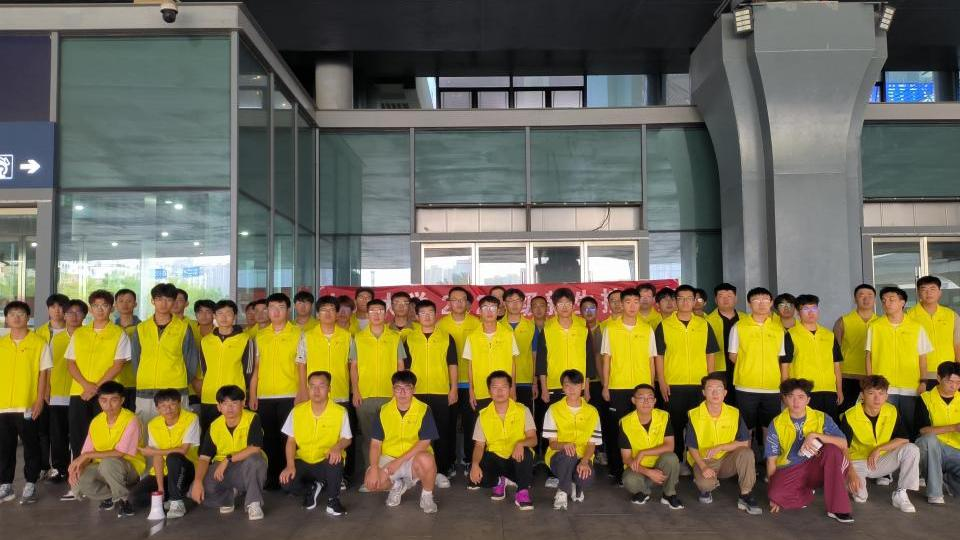persion: (700, 379, 728, 406), (305, 376, 331, 405), (96, 392, 127, 415), (154, 397, 182, 422), (215, 398, 244, 422), (783, 388, 812, 412), (487, 377, 512, 403), (391, 381, 415, 407), (632, 389, 657, 413), (4, 308, 30, 331), (879, 294, 907, 315), (937, 370, 960, 395), (560, 377, 584, 400), (715, 289, 738, 313), (748, 295, 774, 316), (864, 386, 888, 408), (674, 289, 696, 313), (89, 296, 110, 321), (854, 288, 876, 310), (64, 305, 86, 327), (917, 284, 941, 304), (502, 296, 526, 316), (657, 292, 678, 314), (797, 304, 820, 324), (216, 306, 236, 329), (554, 296, 574, 318), (450, 291, 468, 315), (489, 288, 506, 313), (116, 293, 135, 315), (47, 300, 66, 322), (607, 291, 625, 314), (369, 302, 387, 325), (267, 301, 286, 322), (194, 306, 215, 325), (153, 292, 172, 313), (355, 289, 373, 311), (393, 293, 410, 316), (579, 301, 598, 321), (318, 304, 338, 323), (622, 296, 640, 317), (419, 306, 437, 327), (481, 301, 498, 323), (531, 298, 548, 319), (639, 289, 655, 311), (171, 292, 186, 315), (779, 297, 795, 318), (254, 303, 268, 326), (296, 300, 313, 317), (337, 304, 353, 321), (693, 294, 708, 311), (245, 304, 255, 325), (409, 302, 419, 321)
